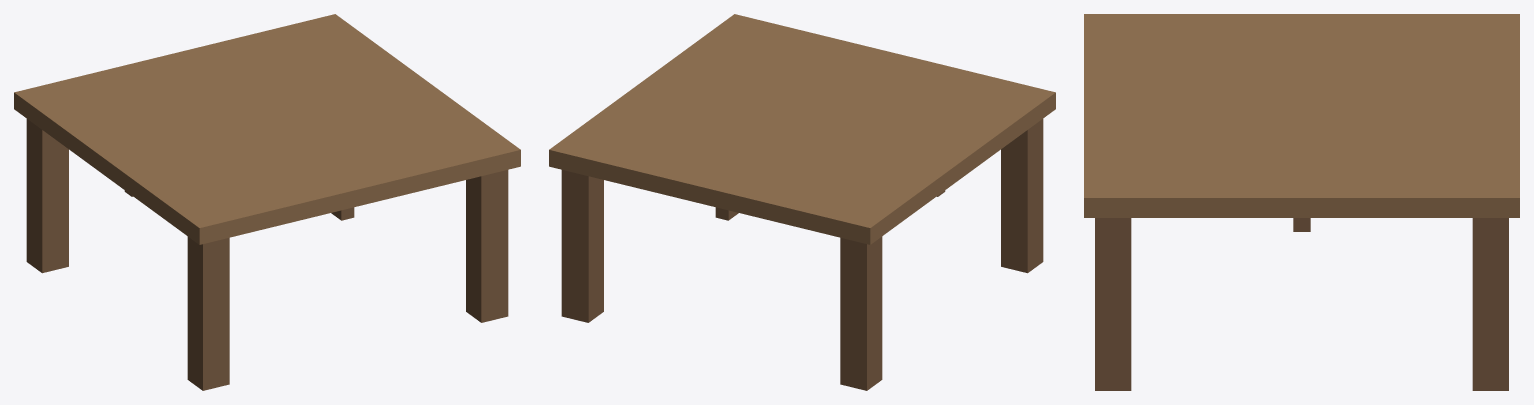
The model's file is Table.fbx.
The picture shows the model from 3 angles, left to right: view 1: azimuth 30°, elevation 25°; view 2: azimuth 150°, elevation 25°; view 3: azimuth 270°, elevation 25°; orthographic projection. The views are drawn at different scales.
Visible parts, largest first — view 1: Table; view 2: Table; view 3: Table.
Boxes of the visible parts, <box> form: Table: <box>14,14,520,390</box>; Table: <box>549,14,1055,390</box>; Table: <box>1084,14,1519,390</box>.
Bounding box in the file's own units: 3 × 1.5 × 3.
